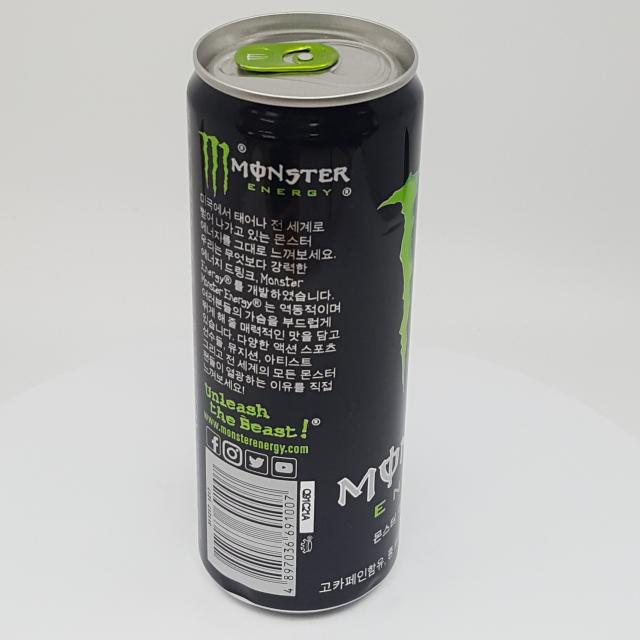--------355ML: (186, 11, 423, 614)
